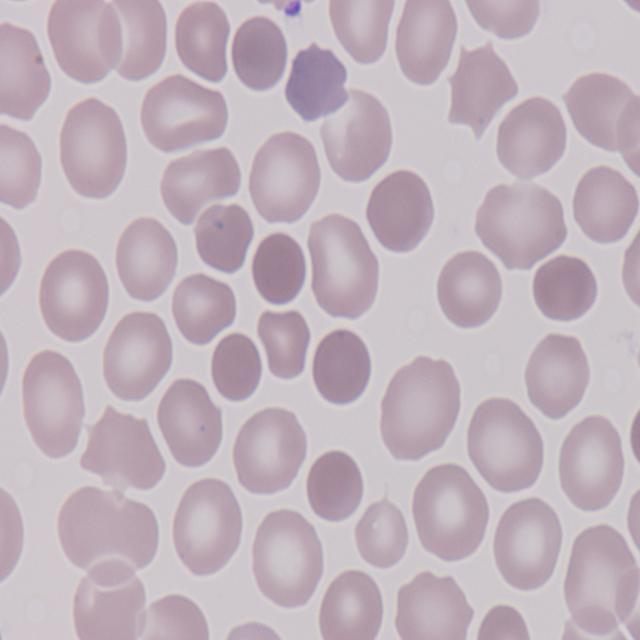RBC: (562, 523, 640, 640), (378, 356, 464, 461), (302, 210, 380, 322), (410, 460, 494, 562), (248, 505, 328, 611), (168, 474, 246, 582), (466, 392, 548, 494), (19, 348, 91, 464), (477, 182, 567, 272), (552, 413, 632, 514), (56, 92, 130, 200), (98, 305, 174, 408), (492, 492, 569, 592), (245, 126, 325, 222), (37, 245, 113, 344), (137, 74, 231, 154), (231, 405, 310, 498), (44, 0, 123, 91), (156, 372, 226, 472), (496, 91, 572, 182), (157, 143, 243, 222), (522, 328, 592, 422), (450, 43, 518, 137), (112, 216, 182, 306), (434, 244, 504, 333), (53, 484, 121, 574), (366, 170, 436, 256), (0, 13, 55, 122), (392, 0, 463, 83), (571, 164, 640, 249), (394, 570, 476, 640), (284, 44, 351, 128), (170, 272, 242, 348), (530, 253, 602, 327), (320, 568, 390, 640), (171, 0, 232, 82), (326, 0, 396, 68), (192, 202, 253, 279), (352, 496, 412, 574), (255, 306, 313, 384), (0, 120, 44, 208), (463, 0, 546, 42), (142, 591, 212, 640), (0, 478, 27, 590), (474, 601, 544, 640), (0, 210, 25, 308), (210, 617, 300, 640), (620, 218, 640, 316), (625, 393, 640, 481), (626, 474, 640, 567)
Spherocyte: (308, 322, 374, 409), (249, 226, 311, 312), (232, 13, 294, 96), (303, 446, 365, 526), (208, 326, 268, 404)
